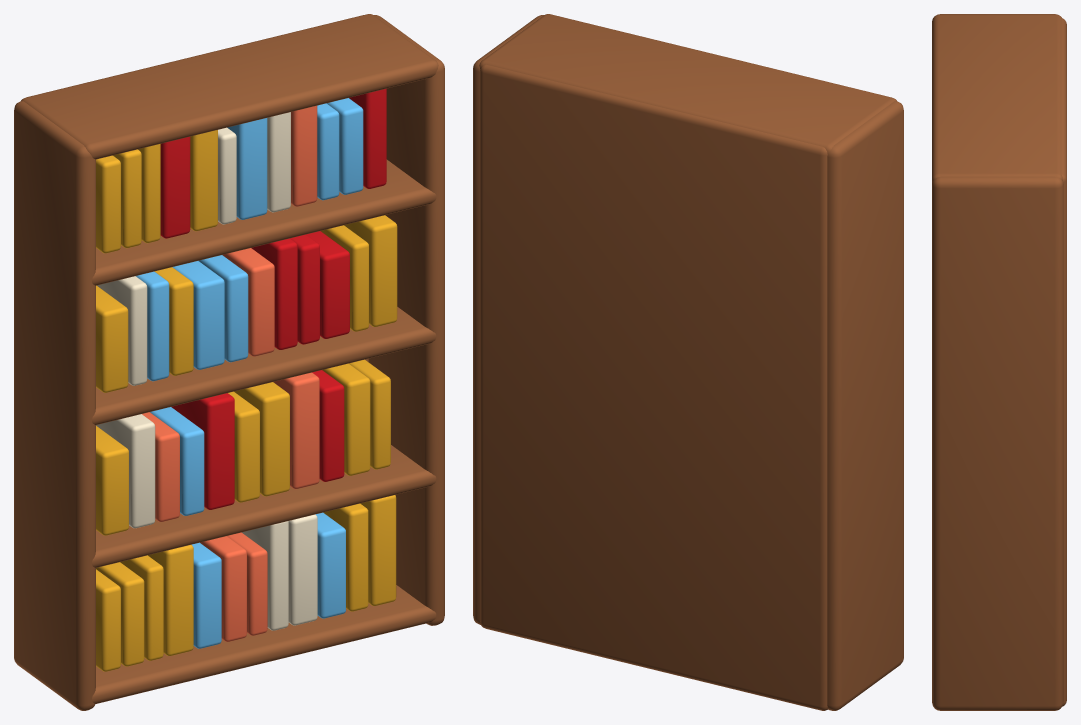
Rendered from bookshelf.glb.
3 renders of one model, left to right at view 1: azimuth 30°, elevation 25°; view 2: azimuth 150°, elevation 25°; view 3: azimuth 270°, elevation 25°, orthographic. The views are drawn at different scales.
Parts seen in each view (by area): view 1: Bookshelf; view 2: Bookshelf; view 3: Bookshelf.
Part boxes in pixels (x1=…): Bookshelf: x1=14, y1=14, x2=444, y2=710; Bookshelf: x1=473, y1=14, x2=903, y2=710; Bookshelf: x1=932, y1=14, x2=1066, y2=710.
Bounding box in the file's own units: 1.16 × 1.7 × 0.39.
